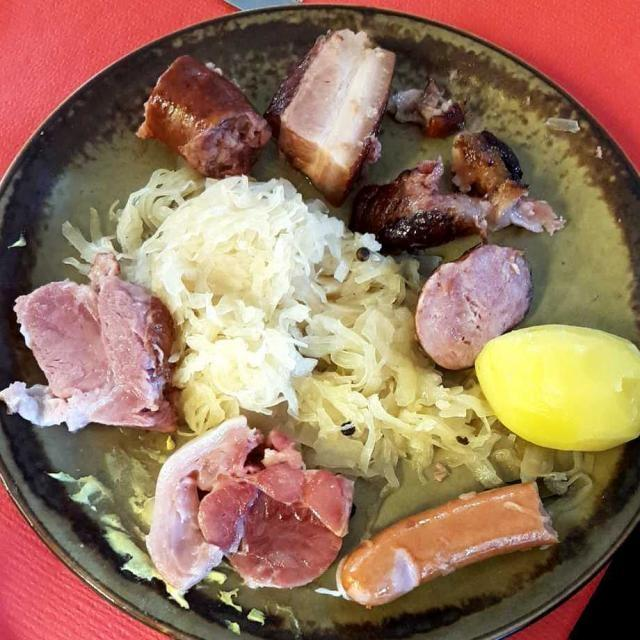bacon: (282, 22, 411, 221)
potatoes: (488, 333, 632, 463)
sauerkraut: (110, 149, 570, 480)
sausage: (130, 48, 550, 360), (318, 477, 566, 602)
